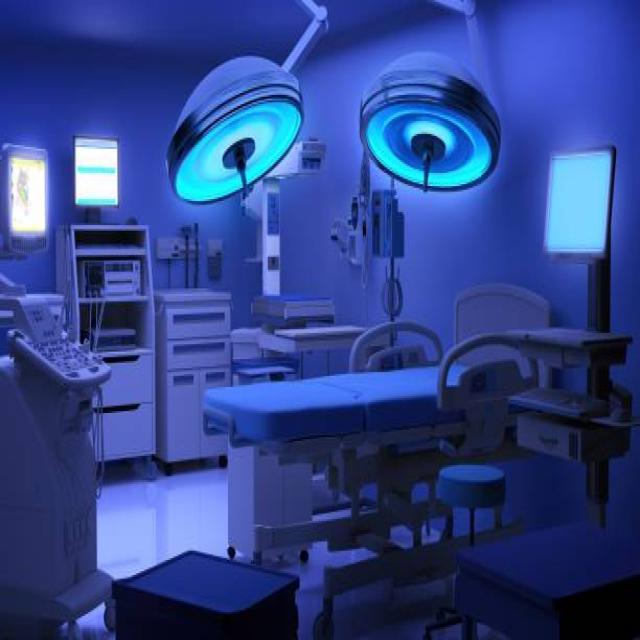Monitor: (544, 129, 616, 277), (4, 134, 51, 254)
bed: (210, 281, 569, 640)
stool: (429, 455, 527, 640)
